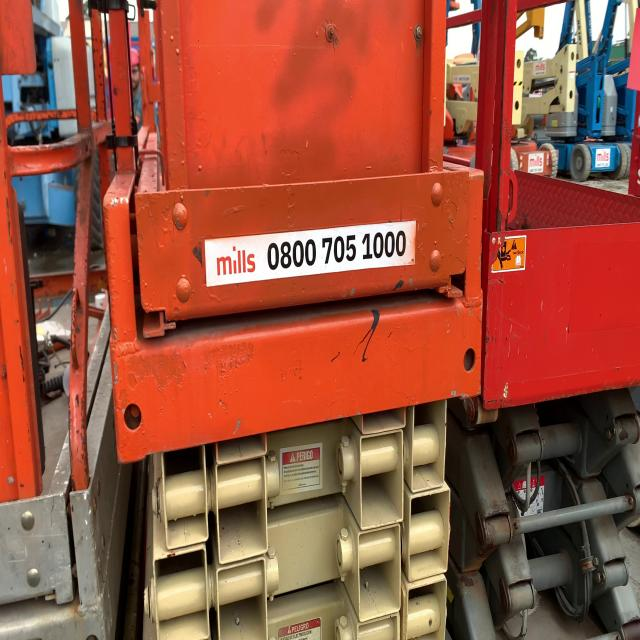Adesivo Longo: (203, 218, 418, 290)
